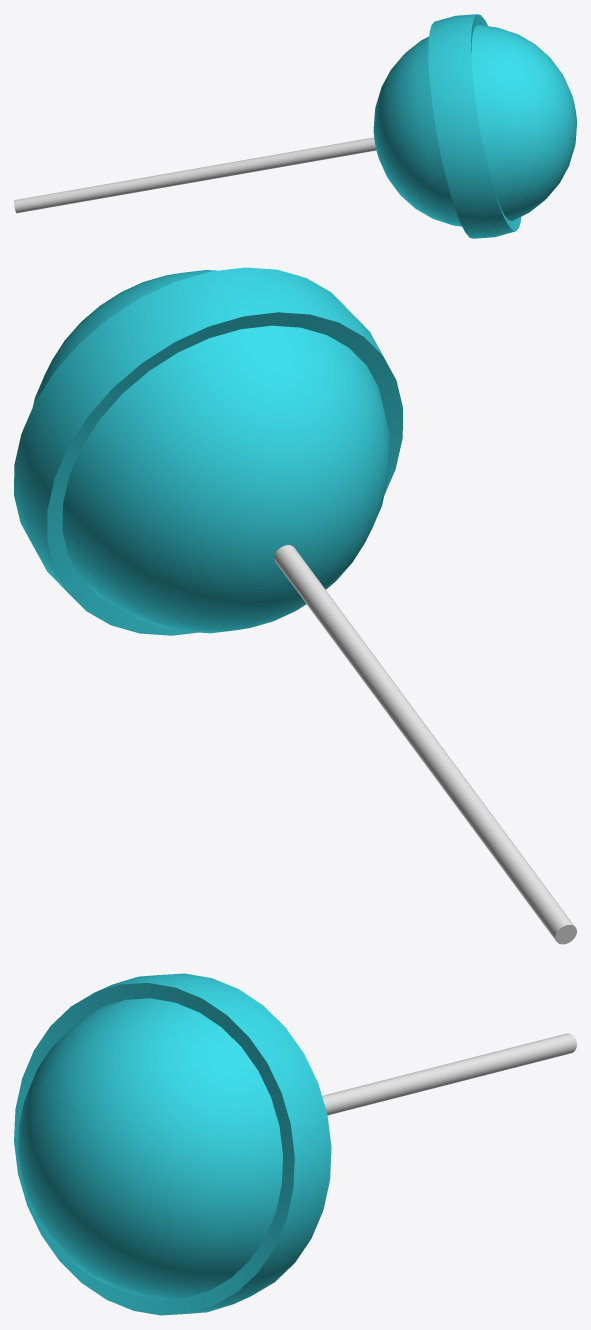
File: candy.fbx
The picture shows the model from 3 angles, top to bottom: view 1: azimuth 30°, elevation 25°; view 2: azimuth 150°, elevation 25°; view 3: azimuth 270°, elevation 25°; orthographic projection. The views are drawn at different scales.
Visible parts, largest first — view 1: Sphere, Cylinder; view 2: Sphere, Cylinder; view 3: Sphere, Cylinder.
Part boxes in pixels (x1=…): Sphere: x1=373, y1=14, x2=576, y2=238; Cylinder: x1=14, y1=137, x2=376, y2=213; Sphere: x1=14, y1=267, x2=402, y2=635; Cylinder: x1=274, y1=545, x2=576, y2=944; Sphere: x1=14, y1=973, x2=331, y2=1315; Cylinder: x1=322, y1=1033, x2=576, y2=1115.
Bounding box in the file's own units: 478 × 221 × 363.
